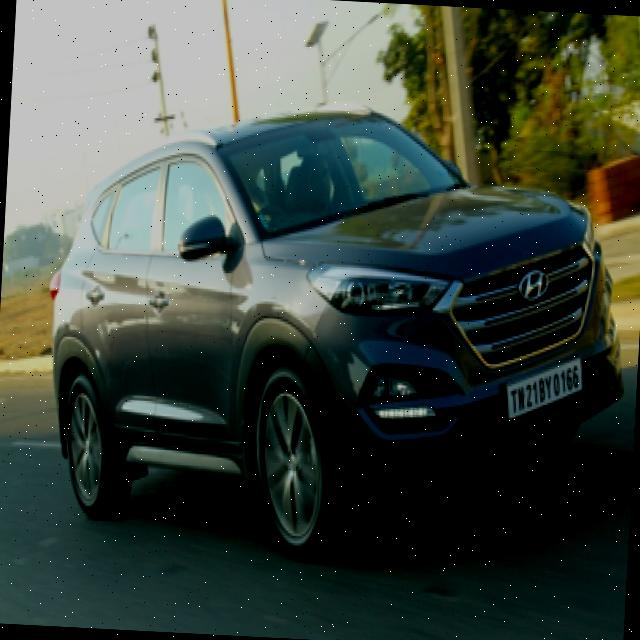Autre: (505, 354, 585, 422)
